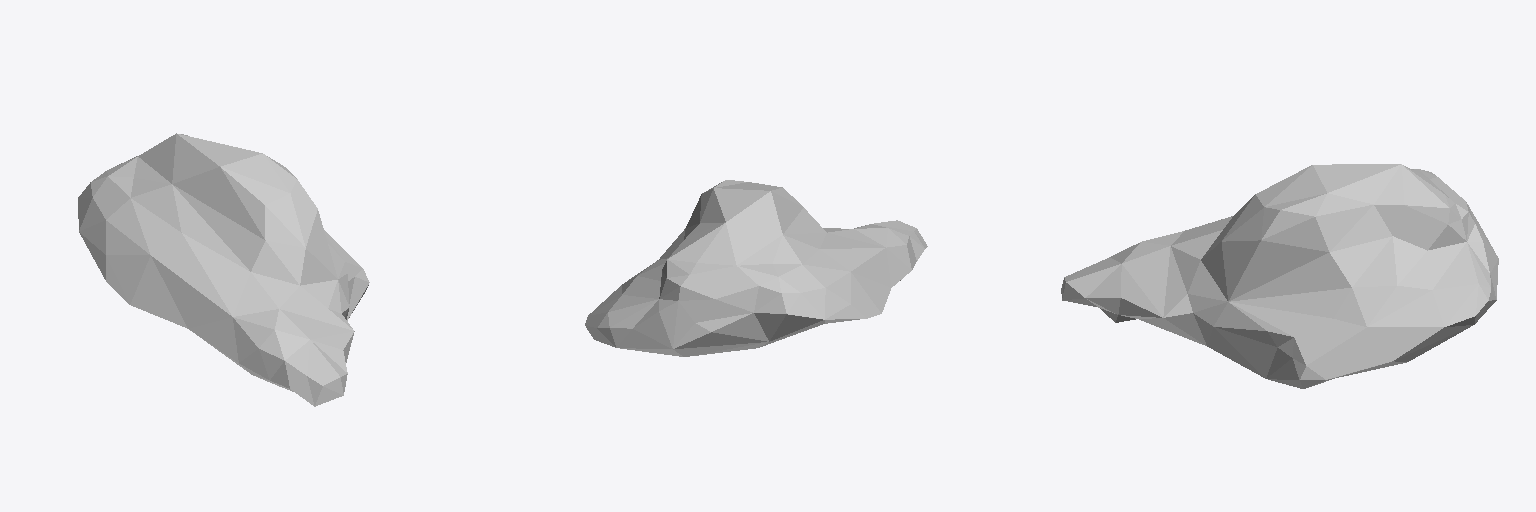
Rendered from cloud.obj.
The picture shows the model from 3 angles: view 1: azimuth 30°, elevation 25°; view 2: azimuth 150°, elevation 25°; view 3: azimuth 270°, elevation 25°; orthographic projection.
Parts seen in each view (by area): view 1: Cloud; view 2: Cloud; view 3: Cloud.
Boxes of the visible parts, <box> form: Cloud: <box>78,133,369,406</box>; Cloud: <box>585,180,927,356</box>; Cloud: <box>1061,164,1498,388</box>.
Size of the model in its own units: 301 by 191 by 458.